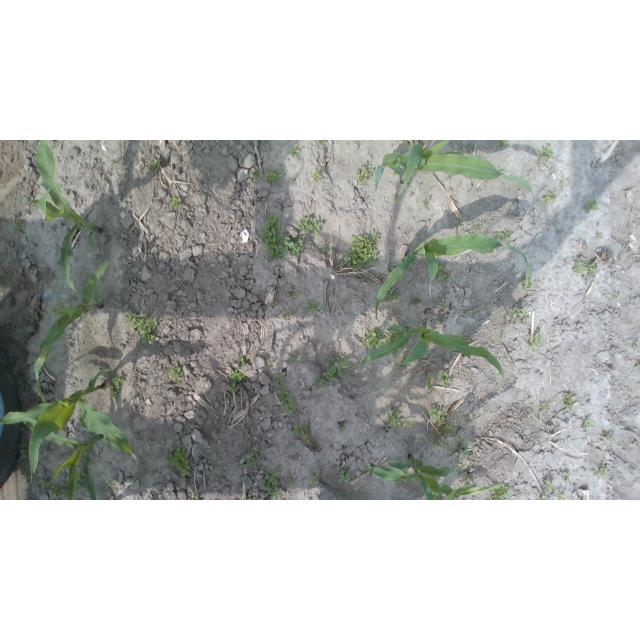Maize: (0, 367, 140, 485), (375, 235, 530, 316), (26, 140, 103, 296), (33, 263, 112, 405), (373, 140, 537, 208), (360, 324, 506, 391), (21, 416, 104, 500), (362, 454, 505, 500)
Weeds: (343, 230, 381, 270), (260, 213, 285, 262), (126, 308, 158, 346), (40, 474, 69, 500), (323, 354, 349, 383), (168, 446, 192, 477), (260, 468, 280, 499), (297, 215, 324, 237), (277, 390, 297, 417), (456, 438, 473, 468), (283, 235, 305, 258), (428, 405, 449, 428), (104, 375, 124, 399), (229, 370, 248, 395), (362, 329, 383, 351), (575, 259, 598, 279), (356, 161, 374, 185), (435, 262, 453, 285), (76, 470, 89, 494), (244, 446, 258, 468), (265, 168, 284, 184), (294, 422, 311, 439), (168, 363, 184, 381), (435, 439, 455, 453), (491, 486, 509, 500), (536, 145, 552, 160), (511, 308, 528, 322), (386, 410, 400, 427), (338, 469, 353, 484), (542, 191, 558, 205), (495, 230, 510, 244), (528, 333, 541, 349), (305, 301, 321, 314), (274, 373, 287, 389), (440, 372, 453, 387), (12, 221, 25, 236), (384, 288, 400, 300), (564, 395, 577, 409), (251, 165, 264, 179), (585, 199, 598, 212), (148, 158, 161, 171), (314, 376, 328, 388), (313, 169, 324, 184), (288, 288, 300, 300), (544, 480, 555, 493), (288, 145, 301, 156), (457, 215, 467, 229), (425, 372, 432, 391), (520, 278, 532, 289), (596, 467, 608, 478), (171, 197, 182, 209), (384, 334, 395, 345), (234, 355, 246, 365), (601, 436, 615, 444), (310, 474, 320, 485), (289, 355, 300, 365), (584, 417, 593, 429), (414, 435, 426, 442), (403, 420, 413, 428), (392, 194, 400, 204), (556, 493, 567, 500), (423, 196, 430, 207), (439, 300, 447, 309), (319, 243, 327, 252), (475, 221, 483, 229), (402, 140, 410, 148), (272, 301, 280, 309), (498, 140, 508, 146), (399, 364, 409, 370), (288, 478, 296, 485), (495, 167, 503, 174), (105, 478, 113, 485), (472, 307, 481, 313), (560, 179, 566, 188), (411, 299, 418, 306), (633, 342, 640, 349), (261, 306, 268, 313), (254, 310, 259, 319), (614, 294, 620, 301), (634, 364, 640, 371), (565, 473, 572, 479), (317, 140, 324, 146), (467, 477, 472, 484), (540, 405, 545, 411), (340, 427, 345, 433), (597, 233, 602, 239), (268, 363, 273, 369), (481, 400, 487, 404), (393, 171, 398, 175), (539, 497, 545, 500), (284, 312, 288, 316), (256, 208, 260, 212), (245, 497, 250, 500), (112, 160, 115, 164)
